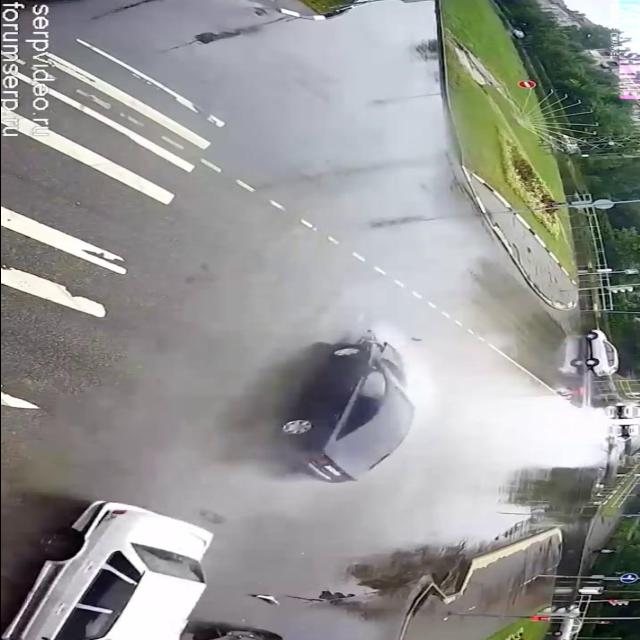accident: (0, 320, 446, 640)
